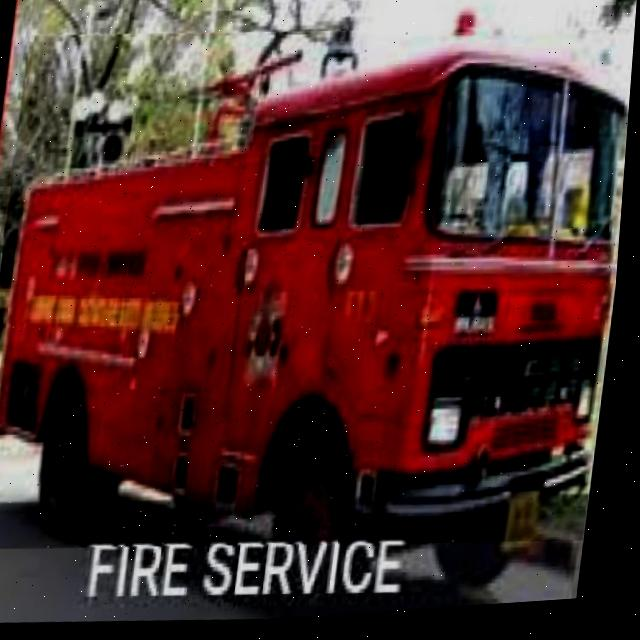Fire Truck: (0, 4, 638, 582)
